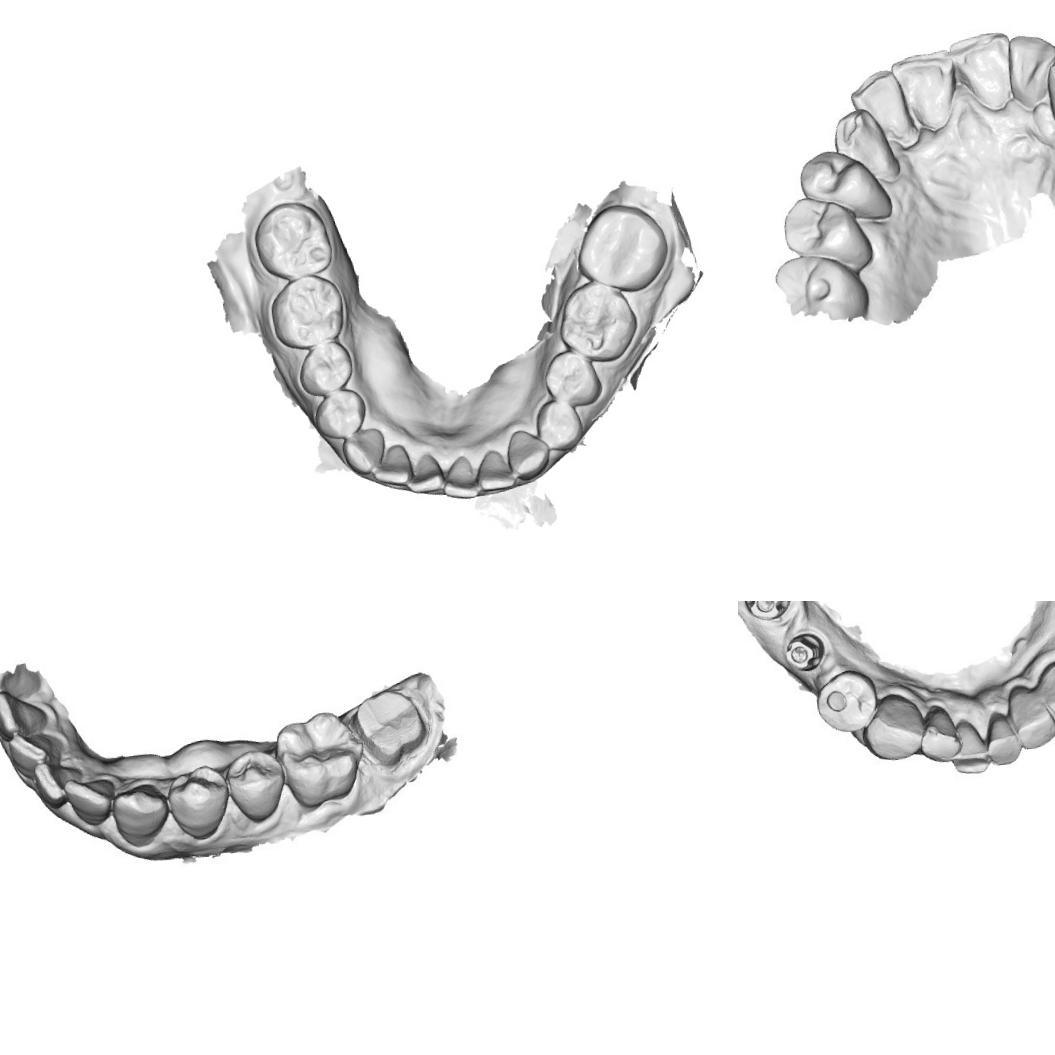canine: (830, 106, 907, 188), (106, 780, 172, 849), (864, 695, 924, 761), (504, 427, 554, 483), (340, 425, 389, 476), (1043, 662, 1055, 728)
crown: (348, 682, 434, 773)
implant: (775, 626, 832, 681), (738, 601, 797, 631)
incisor: (952, 30, 1020, 114), (852, 68, 918, 146), (898, 50, 960, 133), (1007, 32, 1055, 110), (64, 774, 118, 832), (1009, 685, 1055, 744), (0, 688, 51, 740), (33, 760, 83, 812), (3, 730, 59, 776), (472, 445, 518, 493), (438, 452, 480, 503), (950, 720, 990, 772), (370, 442, 414, 489), (921, 707, 961, 758), (403, 450, 446, 496), (986, 712, 1022, 760)
molar: (570, 198, 673, 298), (274, 710, 366, 813), (553, 276, 642, 367), (248, 198, 337, 284), (266, 271, 348, 356)
premolar: (780, 195, 870, 272), (798, 146, 882, 226), (162, 761, 232, 843), (222, 744, 288, 828), (540, 346, 605, 410), (295, 338, 358, 399), (814, 672, 877, 732), (310, 387, 370, 443), (531, 396, 586, 454)
